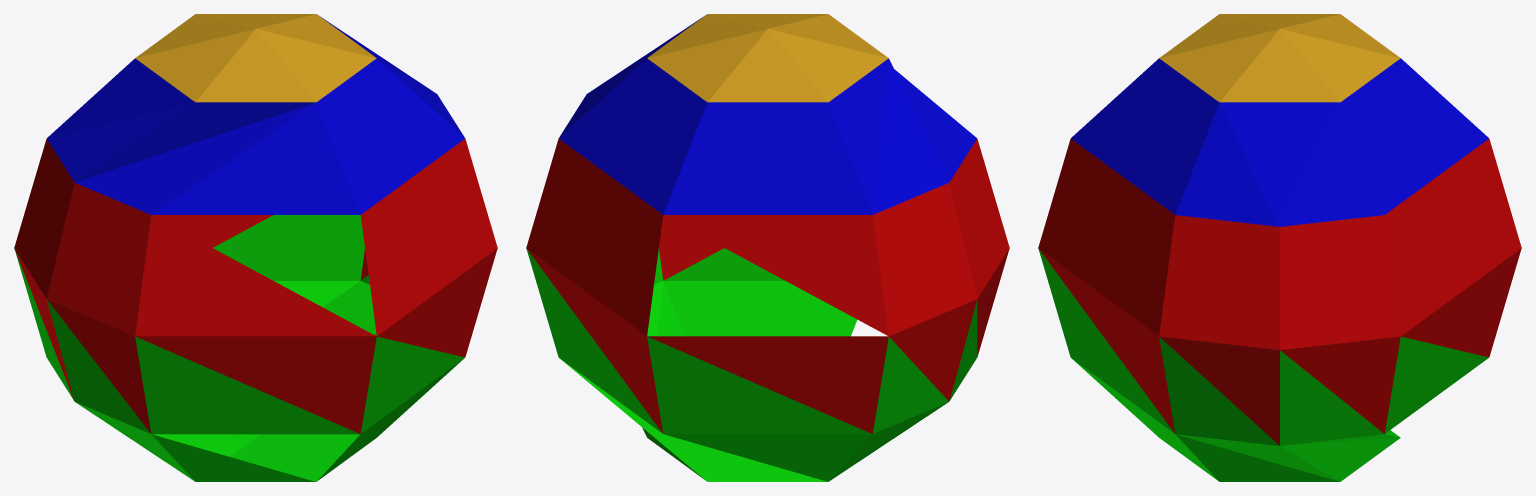
3 views of the same model, side by side, from view 1: azimuth 30°, elevation 25°; view 2: azimuth 150°, elevation 25°; view 3: azimuth 270°, elevation 25° (orthographic).
Parts seen in each view (by area): view 1: LowPolySphere; view 2: LowPolySphere; view 3: LowPolySphere.
Part boxes in pixels (bbox=[...]): LowPolySphere: bbox=[14, 14, 497, 481]; LowPolySphere: bbox=[526, 14, 1009, 481]; LowPolySphere: bbox=[1038, 14, 1521, 481].
Size of the model in its own units: 2 by 2 by 2.
